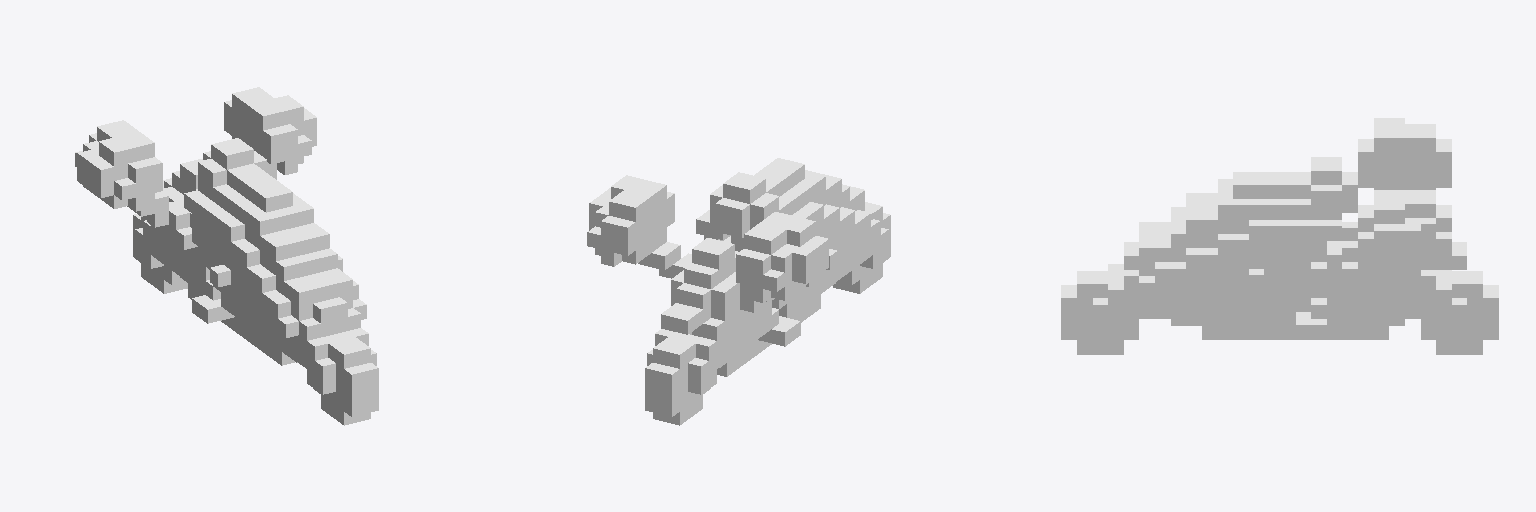
File: ReconBike.obj
3 renders of one model, left to right at view 1: azimuth 30°, elevation 25°; view 2: azimuth 150°, elevation 25°; view 3: azimuth 270°, elevation 25°, orthographic.
Visible parts, largest first — view 1: object 1; view 2: object 1; view 3: object 1.
Part boxes in pixels (bbox=[...]): object 1: bbox=[75, 87, 378, 425]; object 1: bbox=[587, 158, 890, 425]; object 1: bbox=[1061, 118, 1498, 354].
Bounding box in the file's own units: 1.6 × 1.3 × 2.8.